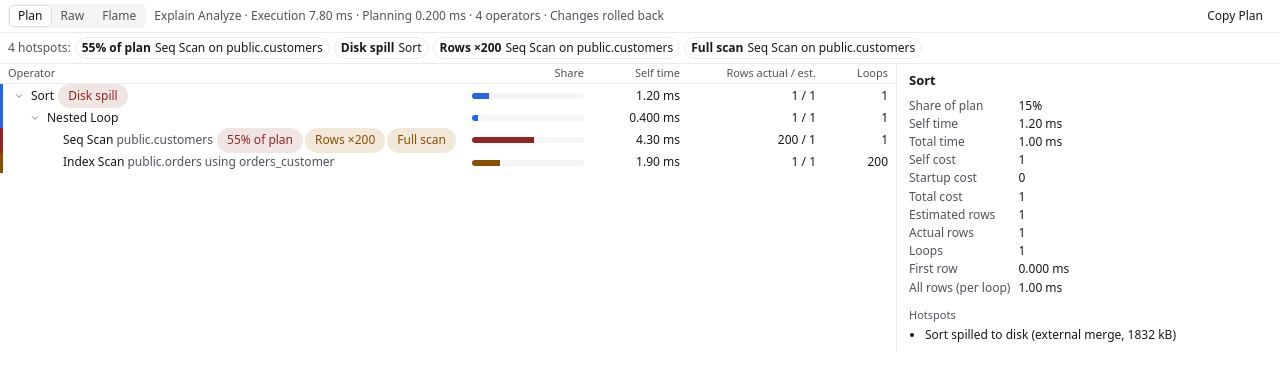
it: shows and copies the raw plan
The width and height of the screenshot is (1280, 368).
Click the button "Copy Plan". click: (1235,16)
box: x1=1198 y1=4 x2=1272 y2=28
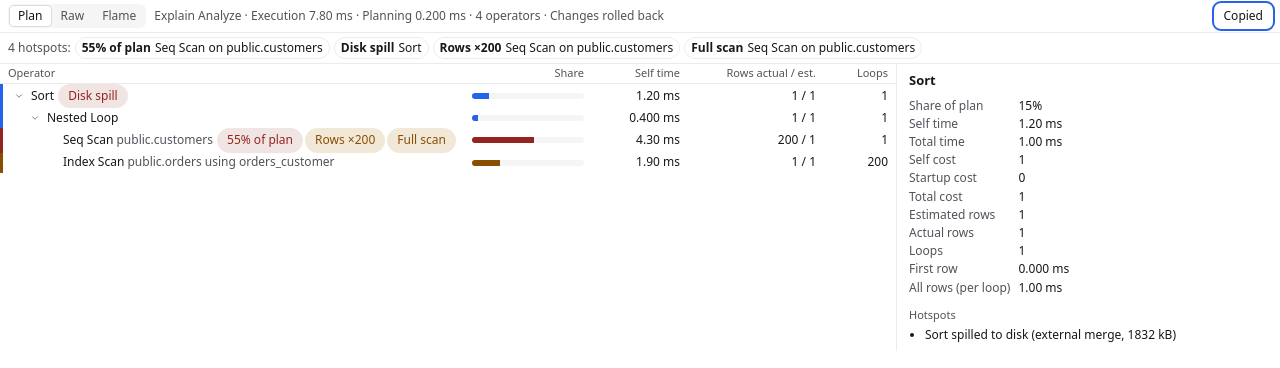
Expected: the button "Copied" is shown, x1=1214 y1=4 x2=1272 y2=28
Click the radio button labelled "Raw". click: (72,16)
box: x1=52 y1=6 x2=92 y2=26
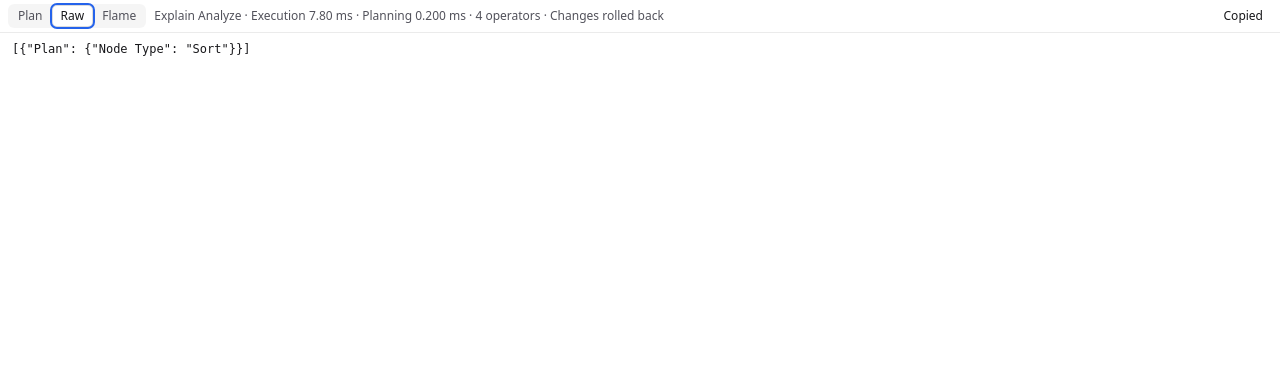
Expected: the text named "Raw plan" shows "\"Node Type\": \"Sort\"", x1=12 y1=42 x2=250 y2=56
